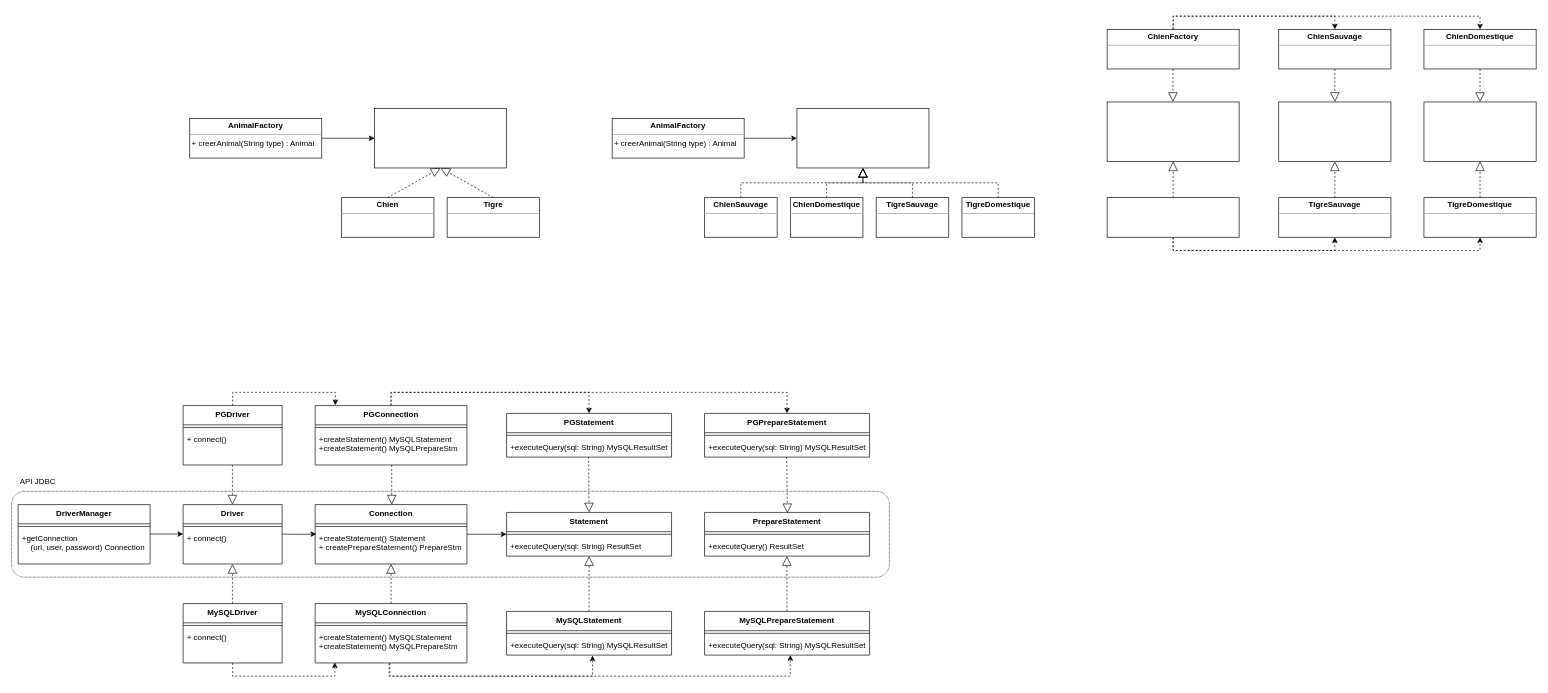
This 1548x693 diagram has some shape labels left out. Here are the shapes that lost their labels. From the top down, the centre of each, then its label:
At (x=440, y=138): "<<Interface>> IAnimal + manger() + dormir()".
At (x=862, y=138): "<<Interface>> IAnimal + manger() + dormir() + chasser() // uniquement sauvage".
At (x=1172, y=131): "IAnimalFactory + creerAnimalDomestique() : IAD + creerAnimalSauvage() : IAS".
At (x=1334, y=131): "<<Interface>> IAnimalSauvage + manger() + dormir() + chasser()".
At (x=1479, y=131): "<<Interface>> IAnimalDomestique + manger() + dormir()".
At (x=1172, y=217): "TigreFactory".
